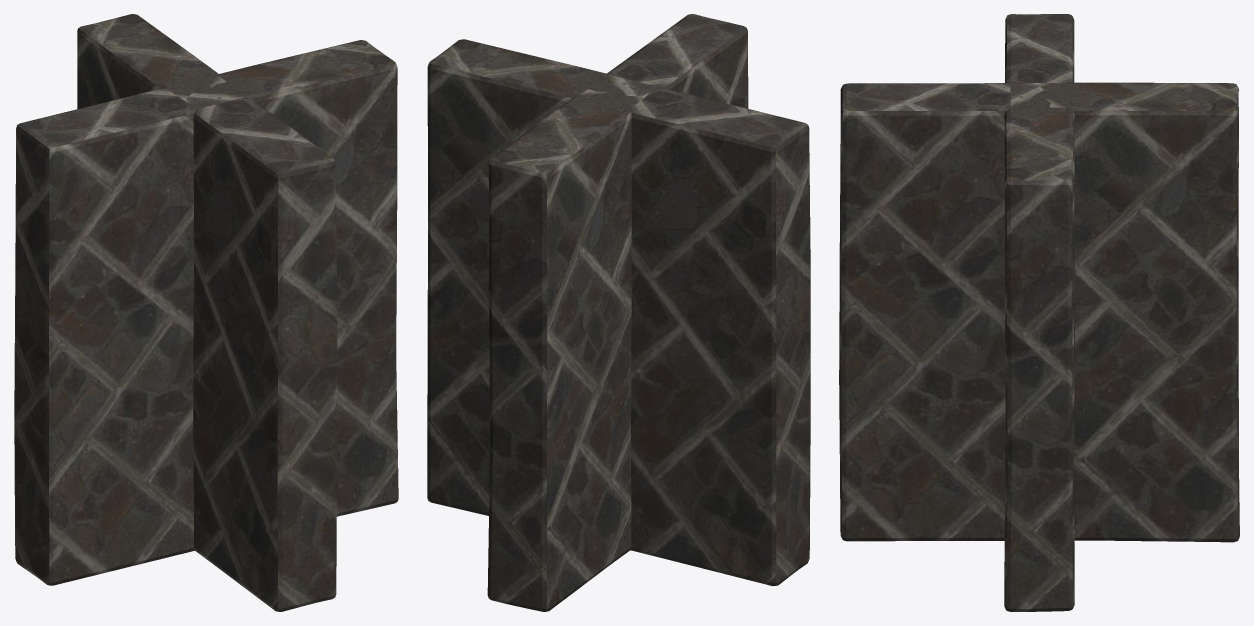
The model's file is wall_corner.glb.
3 views of the same model, side by side, from view 1: azimuth 30°, elevation 25°; view 2: azimuth 150°, elevation 25°; view 3: azimuth 270°, elevation 25° (orthographic).
Visible parts, largest first — view 1: wall_corner; view 2: wall_corner; view 3: wall_corner.
Boxes of the visible parts, x1,y1,x2,y2 form: wall_corner: [14, 14, 398, 611]; wall_corner: [427, 14, 810, 611]; wall_corner: [839, 14, 1239, 611].
Size of the model in its own units: 2.01 by 2.4 by 2.01.
Materials: 1 (1 with a texture image).
